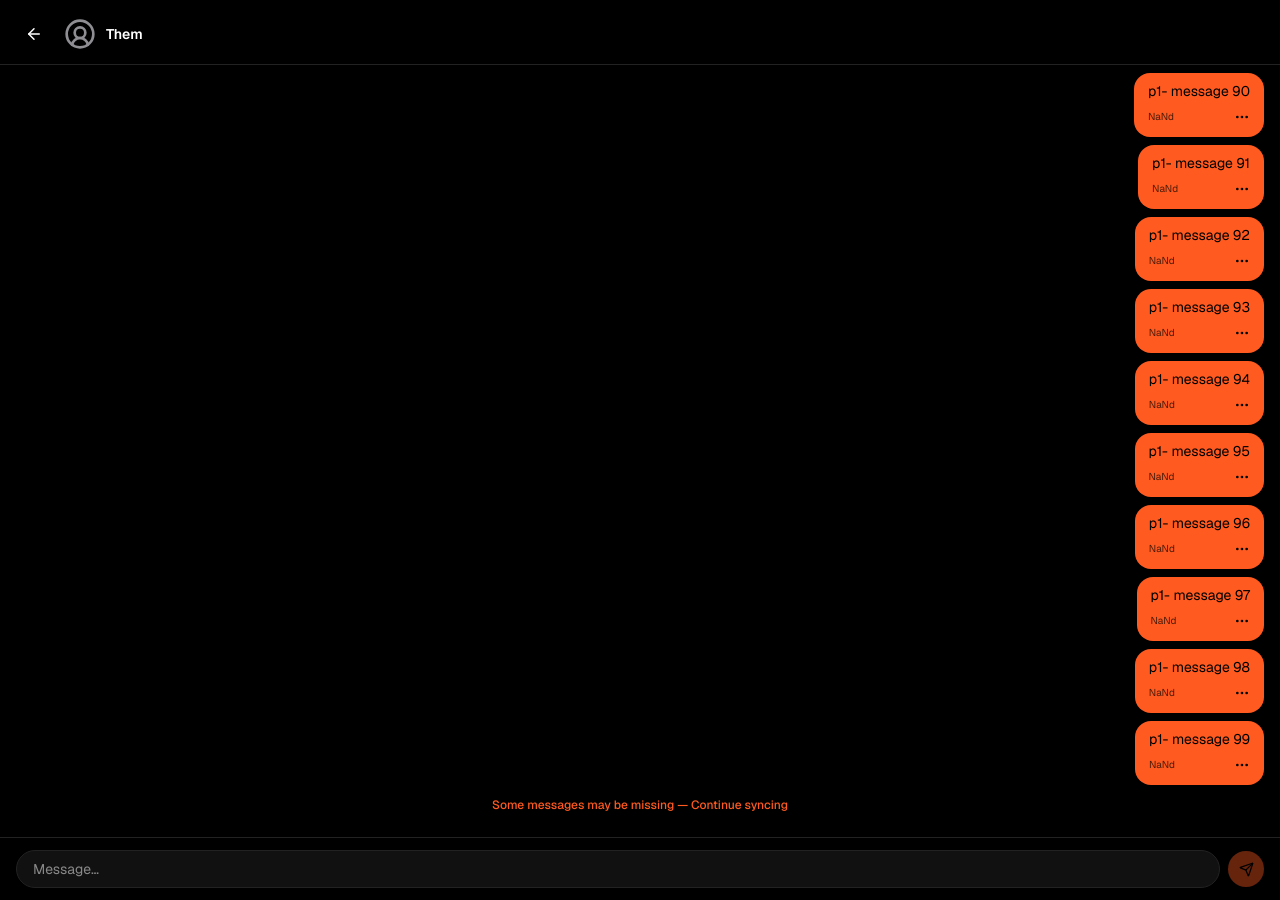
Test: DM thread page › reconnect recovery drains every missed page › retrying after a mid-drain failure resumes from the confirmed cursor, not from scratch
The image size is (1280, 900).
(page scrolled)
Click the button "Some messages may be missing — Continue syncing" at (640, 805), box [492, 797, 788, 813]
(page scrolled)
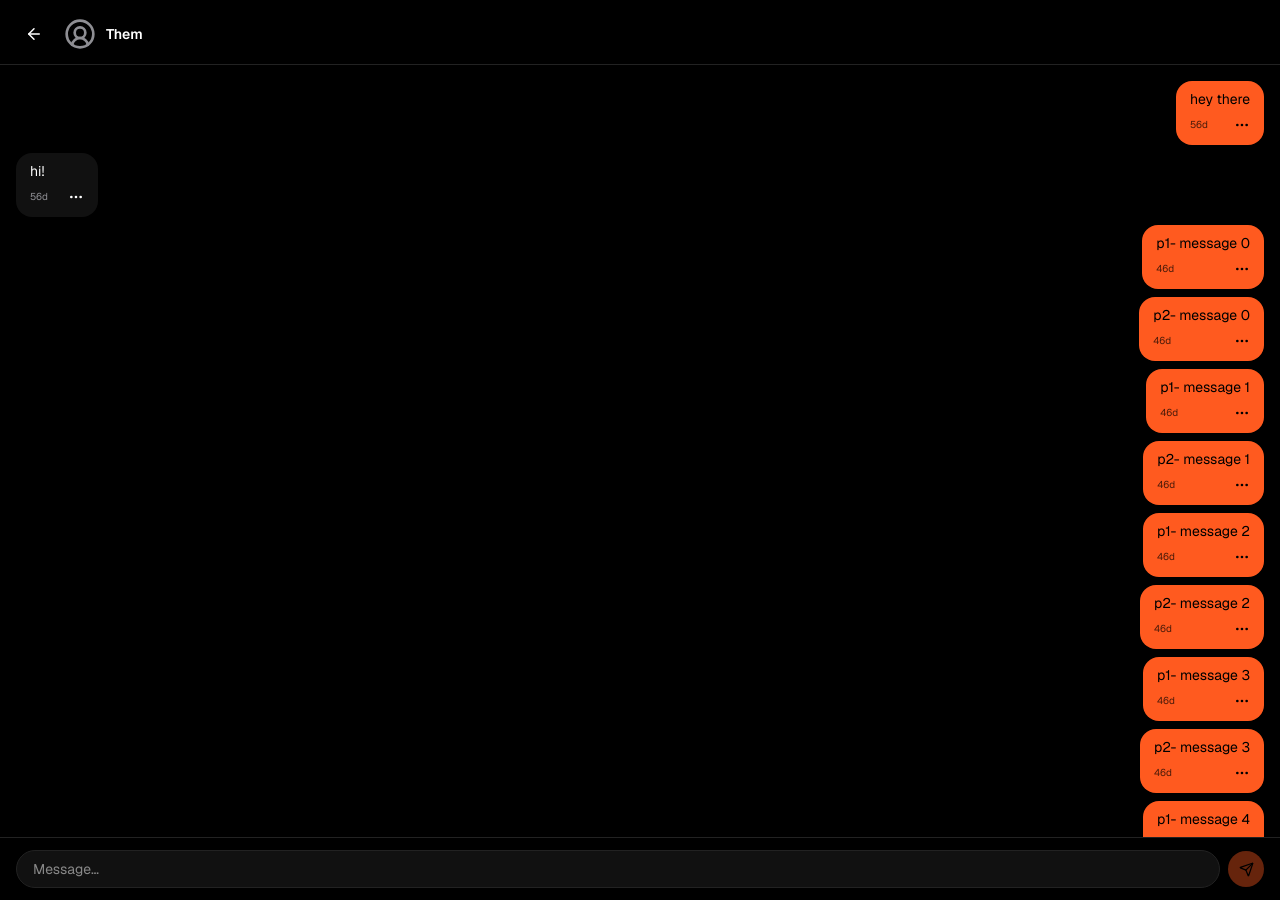
Check: the text "p2- message 0" is shown, box [1153, 305, 1250, 325]
Check: the text "p1- message 0" is shown, box [1156, 233, 1250, 253]
Check: the button "Continue syncing" is gone
